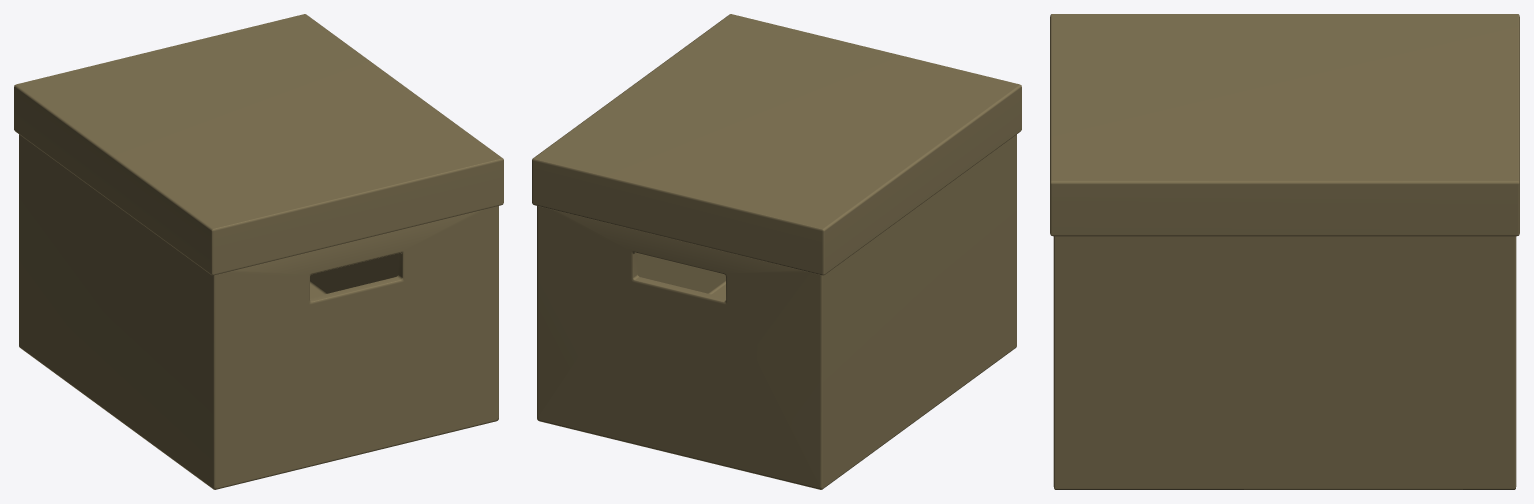
File: Aato_PaperBox.fbx
The picture shows the model from 3 angles, left to right: view 1: azimuth 30°, elevation 25°; view 2: azimuth 150°, elevation 25°; view 3: azimuth 270°, elevation 25°; orthographic projection. The views are drawn at different scales.
Parts seen in each view (by area): view 1: box2; view 2: box2; view 3: box2.
Boxes of the visible parts, x1,y1,x2,y2 form: box2: (14, 14, 503, 489); box2: (532, 14, 1021, 489); box2: (1050, 14, 1519, 489).
Size of the model in its own units: 0.00901 by 0.00774 by 0.0106.
